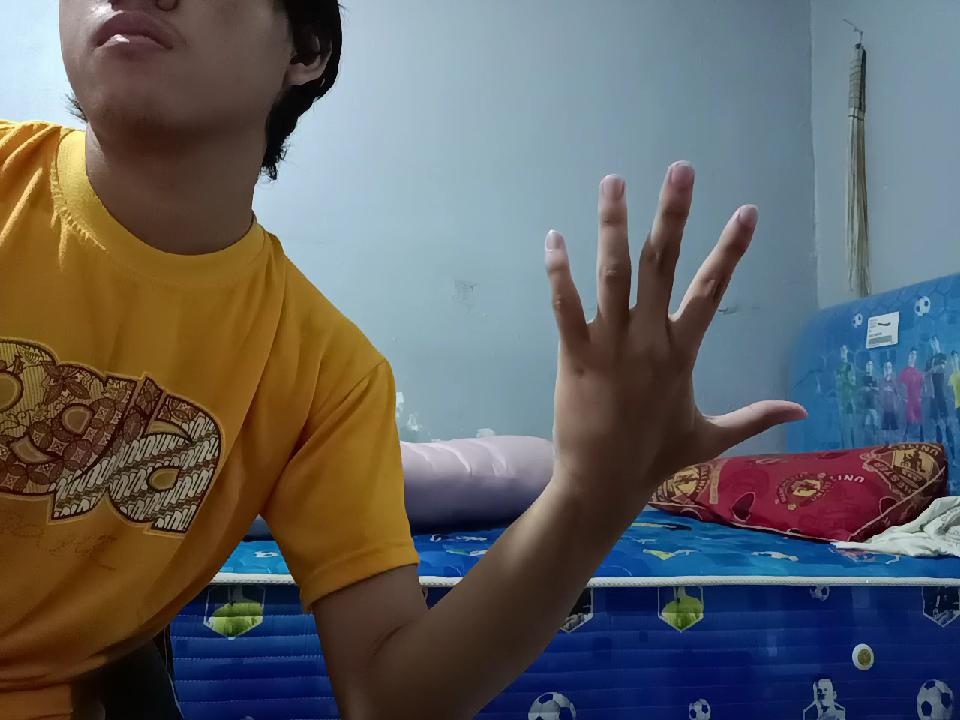paper: (515, 162, 780, 517)
